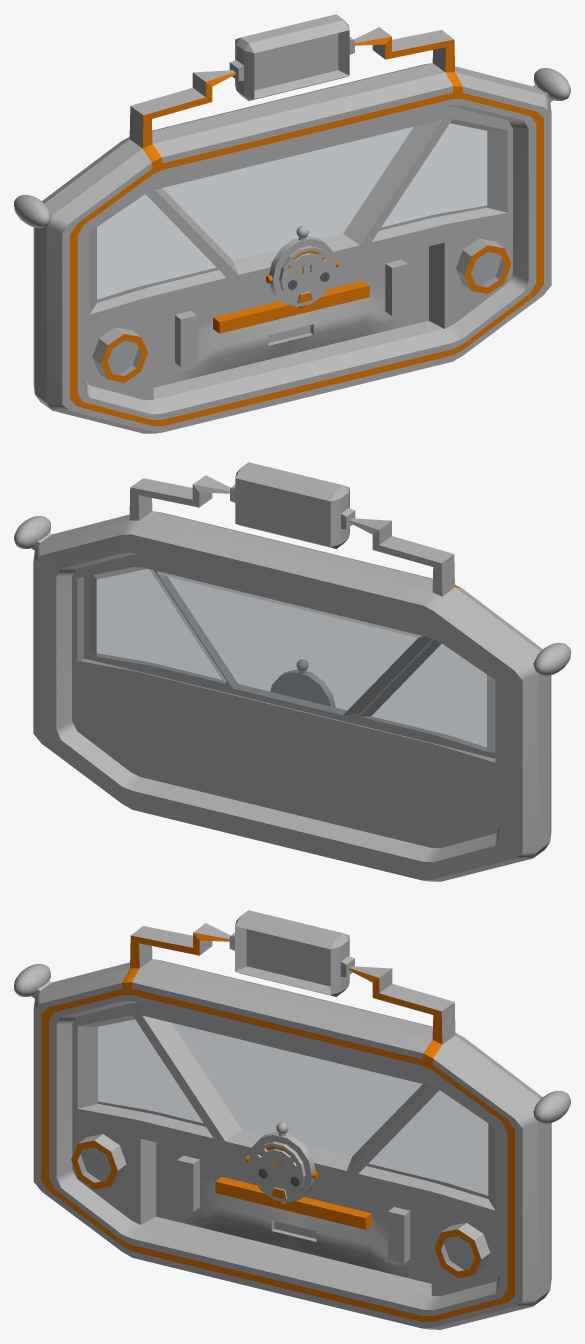
File: door.fbx
3 renders of one model, top to bottom at view 1: azimuth 30°, elevation 25°; view 2: azimuth 150°, elevation 25°; view 3: azimuth 330°, elevation 25°, orthographic.
Parts seen in each view (by area): view 1: polySurface18, polySurface15; view 2: polySurface18, polySurface15; view 3: polySurface18, polySurface15.
Part boxes in pixels (x1,y1,x2,y2): polySurface18: (14, 14, 570, 433); polySurface15: (266, 226, 338, 308); polySurface18: (14, 462, 570, 881); polySurface15: (270, 659, 335, 707); polySurface18: (14, 910, 570, 1329); polySurface15: (246, 1122, 318, 1204).
Bounding box in the file's own units: 26.06 × 16.73 × 2.5.
